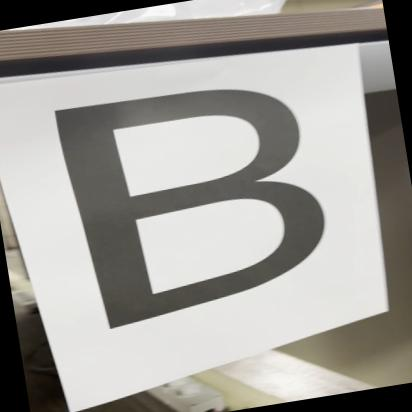seat: (27, 52, 378, 338)
